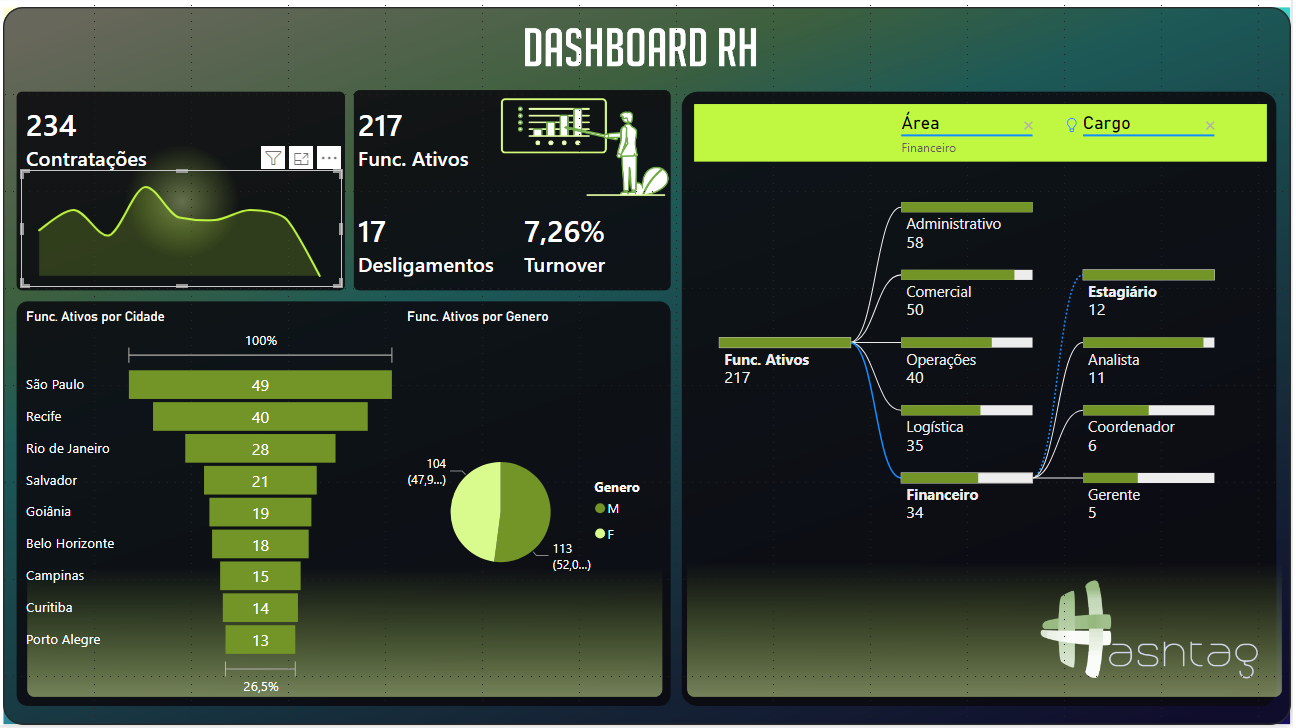

The page's visual inventory and layout, read from the dashboard file:
{"tool":"powerbi","page":{"name":"Relatório  RH","canvas":[1280,720],"ordinal":0},"visuals":[{"type":"multiRowCard","fields":{"Values":["BaseRH.Contratações"]},"box":[23.8,100.9,145.5,81.2],"z":0},{"type":"multiRowCard","fields":{"Values":["BaseRH.Func. Ativos"]},"box":[352.3,100.9,145.5,81.2],"z":2000},{"type":"multiRowCard","fields":{"Values":["BaseRH.Desligamentos"]},"box":[352.3,205.9,145.5,81.2],"z":3000},{"type":"multiRowCard","fields":{"Values":["BaseRH.Turnover"]},"box":[516.6,205.9,145.5,81.2],"z":4000},{"type":"funnel","title":"Func. Ativos por Cidade","fields":{"Y":["BaseRH.funcionários Ativos"],"Category":["BaseRH.Cidade"]},"box":[23.8,308.8,377.1,387],"z":5000},{"type":"pieChart","title":"Func. Ativos por Genero","fields":{"Y":["BaseRH.funcionários Ativos"],"Category":["BaseRH.Genero"]},"box":[400.8,308.8,261.3,387],"z":5001},{"type":"decompositionTreeVisual","fields":{"Analyze":["BaseRH.funcionários Ativos"],"ExplainBy":["BaseRH.Área","BaseRH.Cargo"]},"box":[684.9,100.9,577,467.1],"z":5002},{"type":"PBI_CV_25997FEB_F466_44FA_B562_AC4063283C4C","fields":{"measure":["BaseRH.Contratações"],"axis":["BaseRH.Data de Contratacao.Variation.Hierarquia de datas.Ano"]},"box":[23.8,171.2,317.7,115.8],"z":5003}]}

Visuals, with their boxes in screenshot pixels (x1, y1, x2, y2), scaled from the page's 1280x720 canvas onto the 1296x728 screenshot:
multiRowCard - BaseRH.Contratações: x1=24 y1=102 x2=171 y2=184
multiRowCard - BaseRH.Func. Ativos: x1=357 y1=102 x2=504 y2=184
multiRowCard - BaseRH.Desligamentos: x1=357 y1=208 x2=504 y2=290
multiRowCard - BaseRH.Turnover: x1=523 y1=208 x2=670 y2=290
"Func. Ativos por Cidade" funnel: x1=24 y1=312 x2=406 y2=704
"Func. Ativos por Genero" pieChart: x1=406 y1=312 x2=670 y2=704
decompositionTreeVisual - BaseRH.funcionários Ativos x BaseRH.Área: x1=693 y1=102 x2=1278 y2=574
PBI_CV_25997FEB_F466_44FA_B562_AC4063283C4C - BaseRH.Contratações x BaseRH.Data de Contratacao.Variation.Hierarquia de datas.Ano: x1=24 y1=173 x2=346 y2=290
